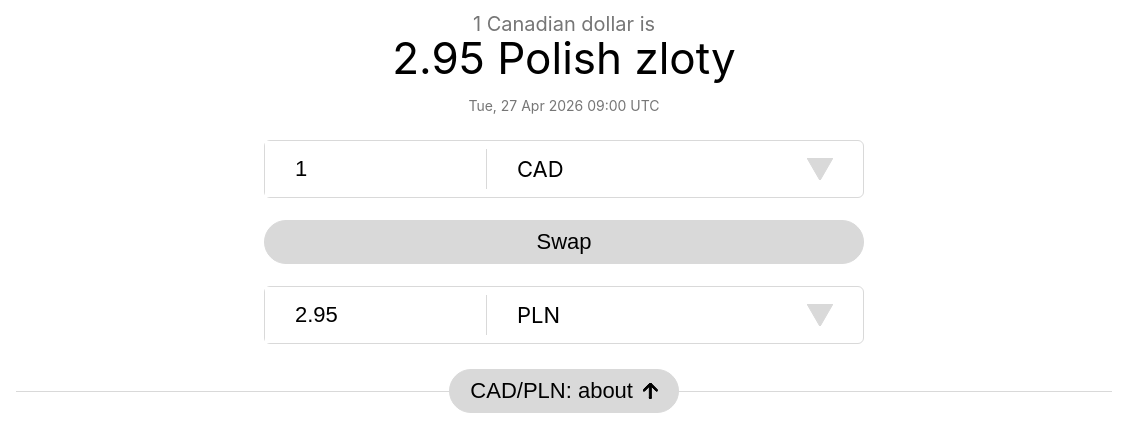
Scenario: Base (converter integration) › rerenders the result when the sum changes
Replace the text in the number field with test id "amount-input" with "10" at [376, 169], box [265,141,486,197]
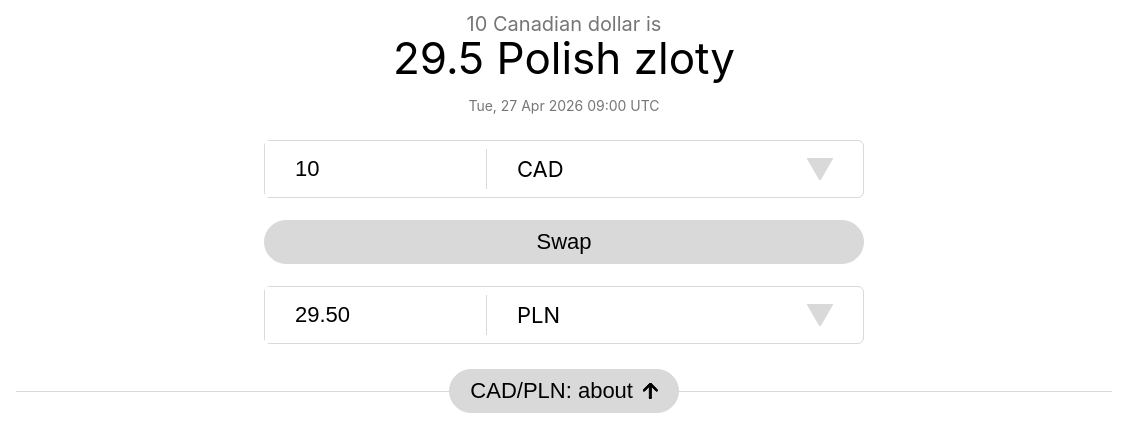
Now the number field with test id "result-input" holds "29.5", box [265,287,486,343]
